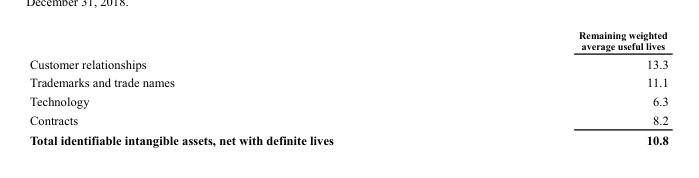table: (28, 28, 667, 146)
table column: (28, 28, 455, 146), (455, 28, 667, 146)
table column header: (28, 28, 667, 54)
table row: (28, 28, 667, 54), (28, 72, 667, 91), (28, 91, 667, 110), (28, 110, 667, 129), (28, 54, 667, 72), (28, 129, 667, 146)
